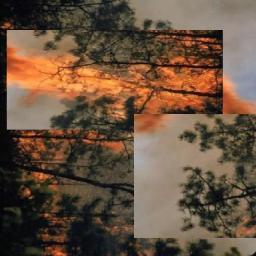Low smoke: (93, 0, 256, 256)
Medium fire: (4, 35, 256, 124)
Small fire: (10, 116, 162, 250)
